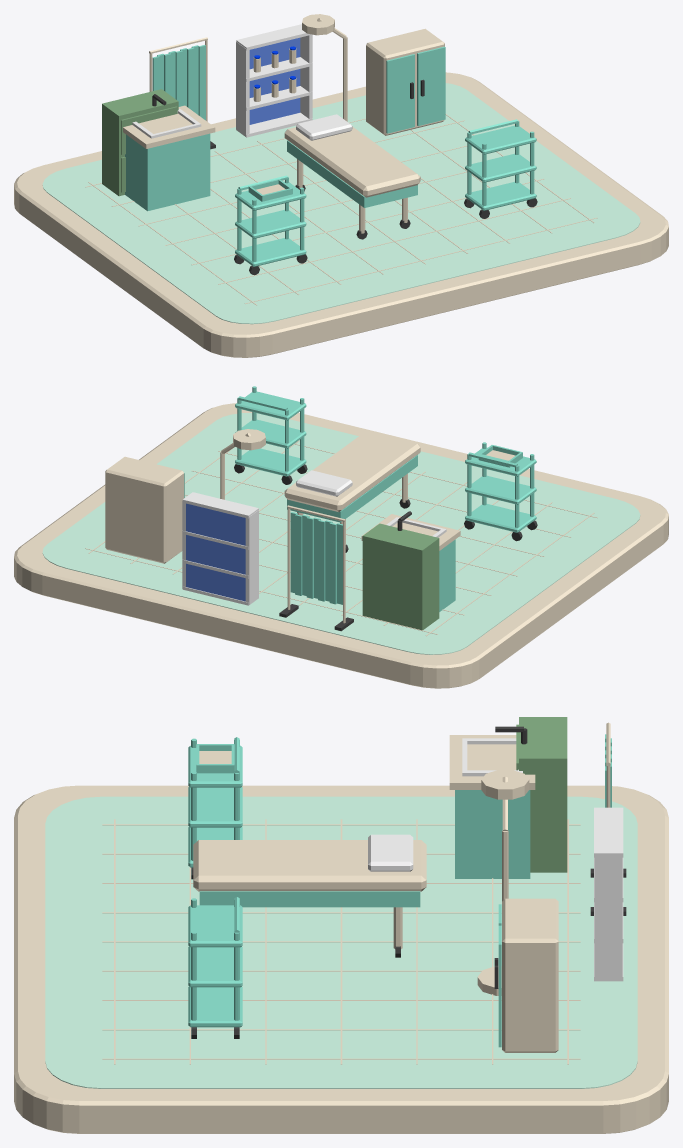
The model's file is room.fbx.
3 views of the same model, one above another, from view 1: azimuth 30°, elevation 25°; view 2: azimuth 150°, elevation 25°; view 3: azimuth 270°, elevation 25° (orthographic). The views are drawn at different scales.
Visible parts, largest first — view 1: COM-02 Floor Surface, COM-01 Rounded Base Direct, Cabinet, Mattress, Cabinet.001, Equipment case, Cabinet back, Door.001, Door, Counter, Clean supply cabinet side, Tray.005 (+15 smaller); view 2: COM-02 Floor Surface, COM-01 Rounded Base Direct, Equipment case, Cabinet.001, Cabinet back, Mattress, Clean supply cabinet side, Tray.001, Tray, Tray.003, Tray.005, Cabinet (+13 smaller); view 3: COM-02 Floor Surface, COM-01 Rounded Base Direct, Mattress, Equipment case, Cabinet.001, Cabinet, Clean supply cabinet side.001, Counter, Base, Tray.005, Tray.003, Tray.004 (+13 smaller).
Part boxes in pixels (bbox=[...]): COM-02 Floor Surface: bbox=[42, 83, 640, 324]; COM-01 Rounded Base Direct: bbox=[14, 72, 668, 357]; Cabinet: bbox=[125, 133, 210, 211]; Mattress: bbox=[284, 127, 420, 197]; Cabinet.001: bbox=[102, 89, 178, 196]; Equipment case: bbox=[366, 28, 444, 135]; Cabinet back: bbox=[249, 37, 300, 124]; Door.001: bbox=[417, 46, 445, 126]; Door: bbox=[386, 54, 414, 133]; Counter: bbox=[123, 105, 215, 148]; Clean supply cabinet side: bbox=[236, 41, 249, 136]; Tray.005: bbox=[465, 125, 536, 154]; COM-02 Floor Surface: bbox=[42, 413, 640, 654]; COM-01 Rounded Base Direct: bbox=[14, 403, 668, 688]; Equipment case: bbox=[105, 456, 184, 563]; Cabinet.001: bbox=[362, 523, 439, 630]; Cabinet back: bbox=[186, 503, 245, 601]; Mattress: bbox=[284, 431, 420, 511]; Clean supply cabinet side: bbox=[245, 510, 258, 604]; Tray.001: bbox=[465, 475, 536, 504]; Tray: bbox=[465, 504, 536, 532]; Tray.003: bbox=[235, 448, 306, 476]; Tray.005: bbox=[235, 391, 306, 420]; Cabinet: bbox=[439, 539, 455, 611]; COM-02 Floor Surface: bbox=[45, 796, 637, 1088]; COM-01 Rounded Base Direct: bbox=[14, 785, 668, 1133]; Mattress: bbox=[193, 840, 426, 891]; Equipment case: bbox=[502, 898, 558, 1052]; Cabinet.001: bbox=[516, 717, 567, 872]; Cabinet: bbox=[455, 790, 530, 878]; Clean supply cabinet side.001: bbox=[594, 855, 622, 980]; Counter: bbox=[449, 735, 535, 789]; Base: bbox=[199, 896, 420, 907]; Tray.005: bbox=[188, 905, 242, 947]; Tray.003: bbox=[188, 986, 242, 1027]; Tray.004: bbox=[188, 946, 242, 987].
Size of the model in its own units: 600 by 196 by 520.
